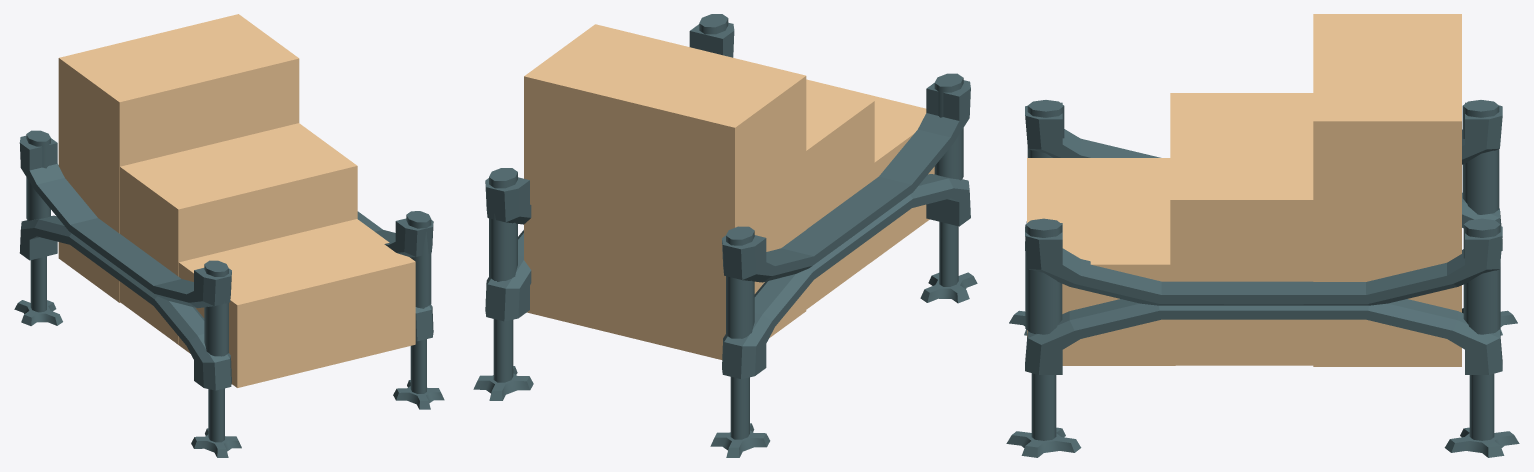
Rendered from colony_stairs.fbx.
The picture shows the model from 3 angles, left to right: view 1: azimuth 30°, elevation 25°; view 2: azimuth 150°, elevation 25°; view 3: azimuth 270°, elevation 25°; orthographic projection. The views are drawn at different scales.
Parts seen in each view (by area): view 1: Cube.005, Cube.003, Cube.004, Large.ME.Cube.002, Large.ME.Cube.004, Large.ME.Cylinder.003, Large.ME.Cylinder.004; view 2: Cube.005, Large.ME.Cube.002, Large.ME.Cube.004, Cube.004, Large.ME.Cylinder.003, Large.ME.Cylinder.004, Cube.003; view 3: Cube.005, Cube.004, Cube.003, Large.ME.Cube.002, Large.ME.Cube.004, Large.ME.Cylinder.004, Large.ME.Cylinder.003.
Boxes of the visible parts, <box> form: Cube.005: <box>58,14,299,302</box>; Cube.003: <box>178,219,415,387</box>; Cube.004: <box>120,123,357,344</box>; Large.ME.Cube.002: <box>19,135,433,308</box>; Large.ME.Cube.004: <box>19,215,433,390</box>; Large.ME.Cylinder.003: <box>14,130,241,457</box>; Large.ME.Cylinder.004: <box>393,211,444,409</box>; Cube.005: <box>524,24,806,359</box>; Large.ME.Cube.002: <box>485,22,970,282</box>; Large.ME.Cube.004: <box>485,174,970,378</box>; Cube.004: <box>806,84,874,309</box>; Large.ME.Cylinder.003: <box>710,73,977,457</box>; Large.ME.Cylinder.004: <box>473,14,728,400</box>; Cube.003: <box>806,79,934,261</box>; Cube.005: <box>1313,14,1461,366</box>; Cube.004: <box>1170,93,1313,365</box>; Cube.003: <box>1027,158,1175,365</box>; Large.ME.Cube.002: <box>1025,102,1502,305</box>; Large.ME.Cube.004: <box>1025,192,1502,374</box>; Large.ME.Cylinder.004: <box>1006,218,1519,457</box>; Large.ME.Cylinder.003: <box>1009,100,1517,335</box>.
Bounding box in the file's own units: 313 × 323 × 471.
